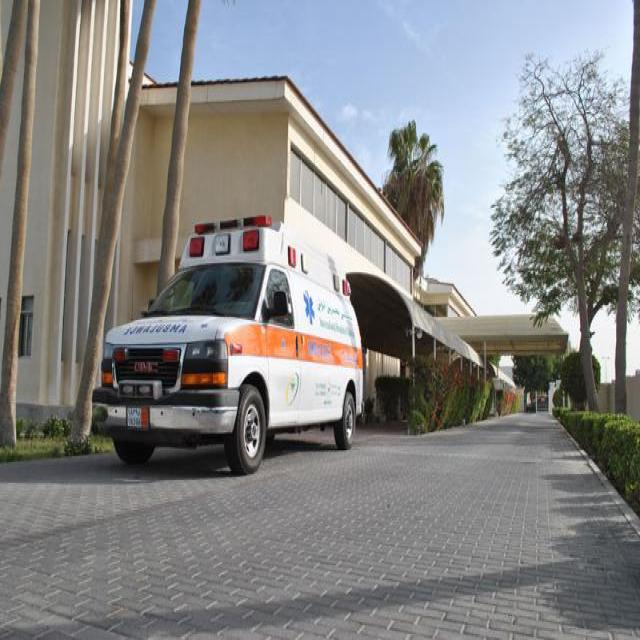emergency-vehicle: (92, 214, 364, 471)
